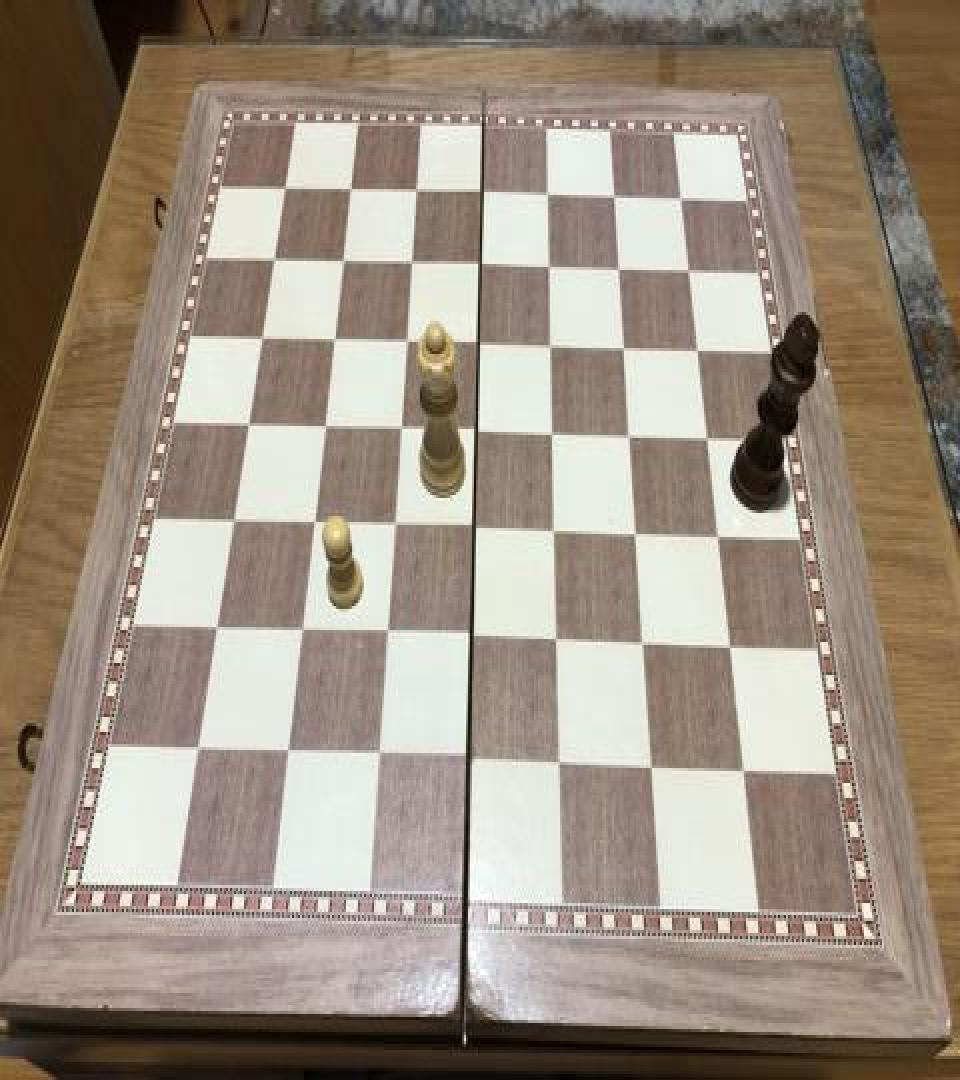xcorner: (706, 514, 730, 551), (717, 625, 741, 662), (631, 622, 655, 659), (458, 616, 482, 653), (288, 610, 312, 647), (730, 748, 754, 785), (546, 742, 570, 779), (183, 727, 207, 764), (670, 178, 694, 214), (603, 177, 627, 213), (537, 174, 561, 210), (405, 171, 429, 207), (340, 170, 364, 206), (274, 168, 298, 204), (678, 250, 702, 286), (608, 248, 632, 284), (538, 246, 562, 282), (469, 244, 493, 280), (400, 243, 424, 279), (331, 242, 355, 278), (263, 240, 287, 276), (613, 327, 637, 363), (540, 326, 564, 362), (467, 324, 491, 360), (394, 321, 418, 357), (322, 320, 346, 356), (250, 318, 274, 354), (695, 417, 719, 453), (618, 416, 642, 452), (464, 411, 488, 447), (388, 408, 412, 444), (312, 406, 336, 442), (236, 404, 260, 440), (624, 513, 648, 549), (543, 510, 567, 546), (462, 507, 486, 543), (381, 506, 405, 542), (301, 502, 325, 538), (220, 500, 244, 536), (544, 620, 568, 656), (373, 614, 397, 650), (203, 608, 227, 644), (638, 746, 662, 782), (455, 738, 479, 774), (364, 735, 388, 771), (274, 732, 298, 768), (471, 173, 495, 208), (686, 329, 710, 364), (541, 413, 565, 448)
